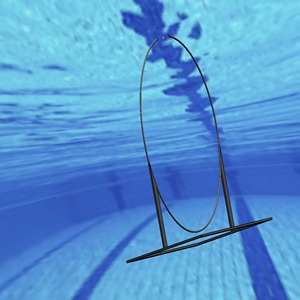circle: (130, 32, 273, 261)
